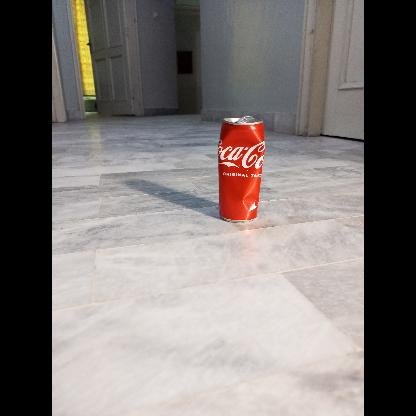Dent_Can: (219, 128, 265, 166), (242, 188, 259, 216)
Lid_Open: (233, 113, 254, 126)
Tin_Can: (216, 114, 270, 224)
